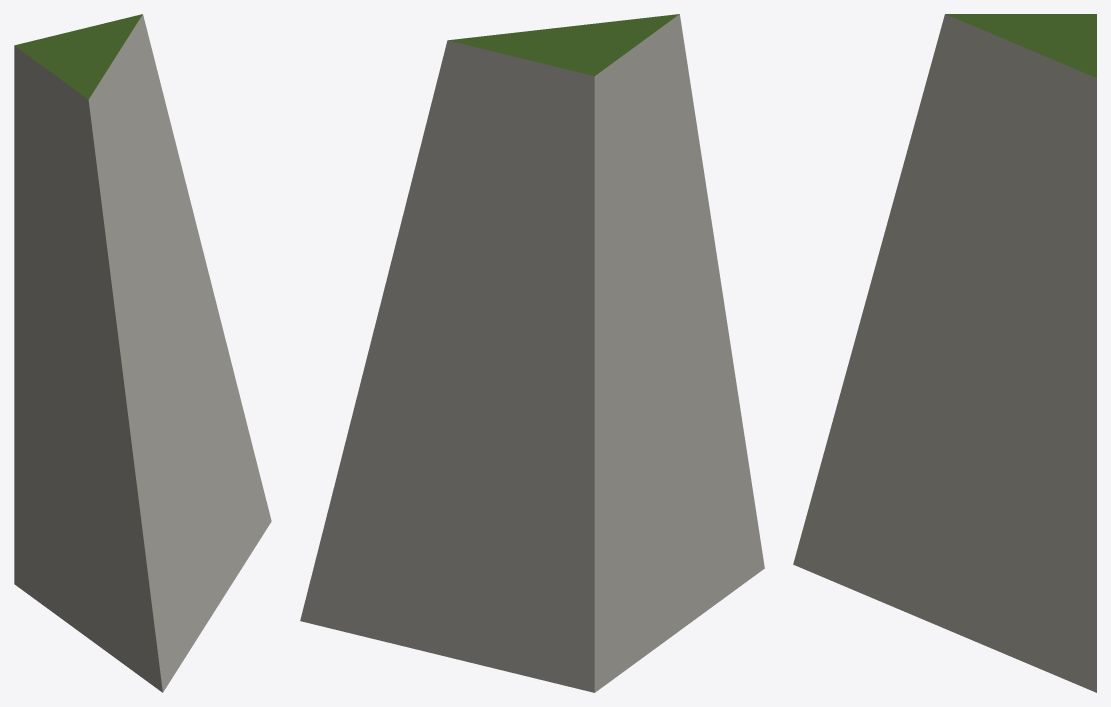
File: Terrain_Tile_Grass_Rock_Cliff_Face_Angled_Corner_01.fbx
3 renders of one model, left to right at view 1: azimuth 30°, elevation 25°; view 2: azimuth 150°, elevation 25°; view 3: azimuth 270°, elevation 25°, orthographic. The views are drawn at different scales.
Parts seen in each view (by area): view 1: Terrain_Tile_Grass_Rock_Cliff_Face_Angled_Corner_01; view 2: Terrain_Tile_Grass_Rock_Cliff_Face_Angled_Corner_01; view 3: Terrain_Tile_Grass_Rock_Cliff_Face_Angled_Corner_01.
Part boxes in pixels (<box>): Terrain_Tile_Grass_Rock_Cliff_Face_Angled_Corner_01: <box>14,14,271,692</box>; Terrain_Tile_Grass_Rock_Cliff_Face_Angled_Corner_01: <box>300,14,764,692</box>; Terrain_Tile_Grass_Rock_Cliff_Face_Angled_Corner_01: <box>793,14,1096,692</box>.
Size of the model in its own units: 62.99 by 126 by 62.99.
